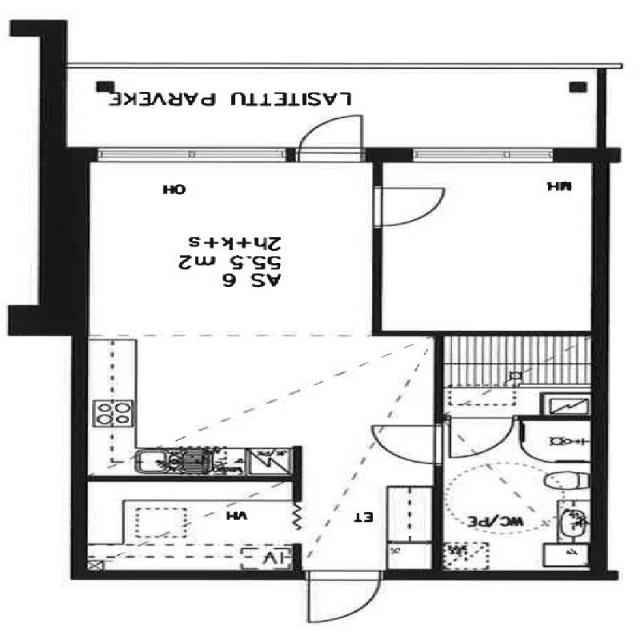door: (308, 572, 380, 624), (299, 111, 360, 162), (372, 188, 446, 226), (371, 426, 444, 463), (450, 413, 512, 456)
